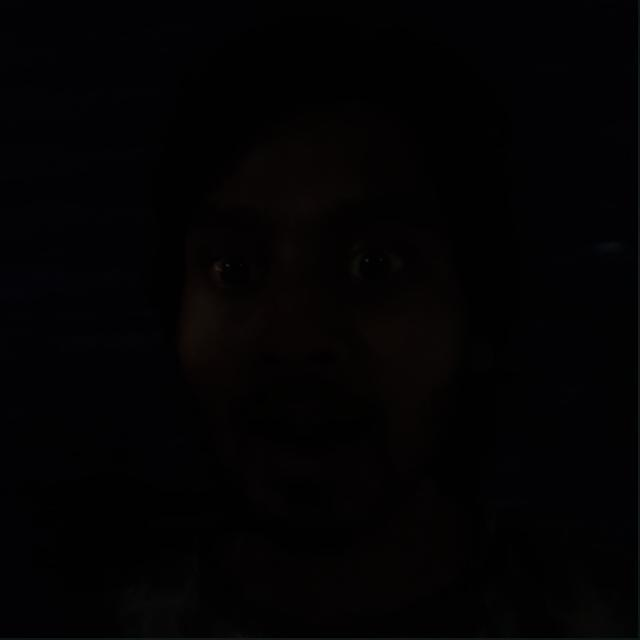Surprised: (95, 179, 529, 523)
